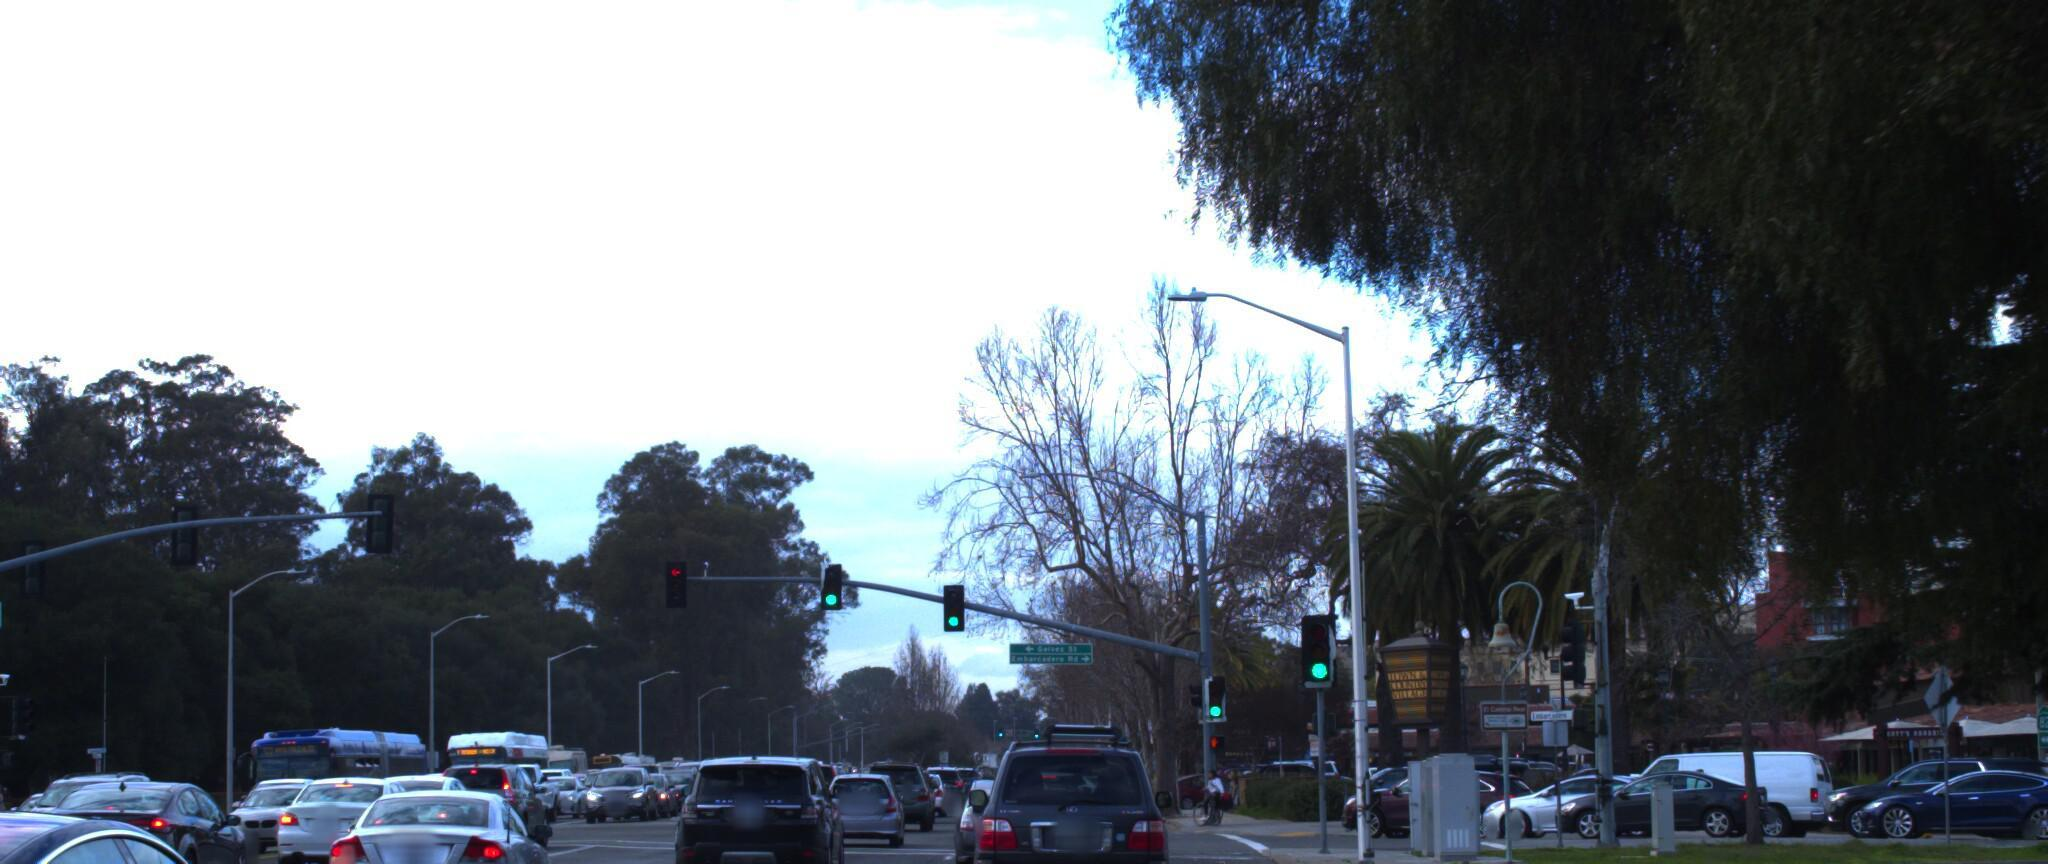car: (968, 700, 1169, 864), (0, 780, 360, 864), (1573, 727, 1842, 827), (18, 760, 266, 864), (317, 767, 568, 864), (671, 728, 840, 864), (1802, 733, 2048, 825), (268, 754, 445, 861), (1533, 747, 1771, 820), (1834, 747, 2048, 822), (1462, 752, 1688, 821), (347, 754, 505, 844), (427, 744, 560, 834), (910, 762, 1029, 863), (231, 760, 370, 837), (816, 754, 906, 829)
